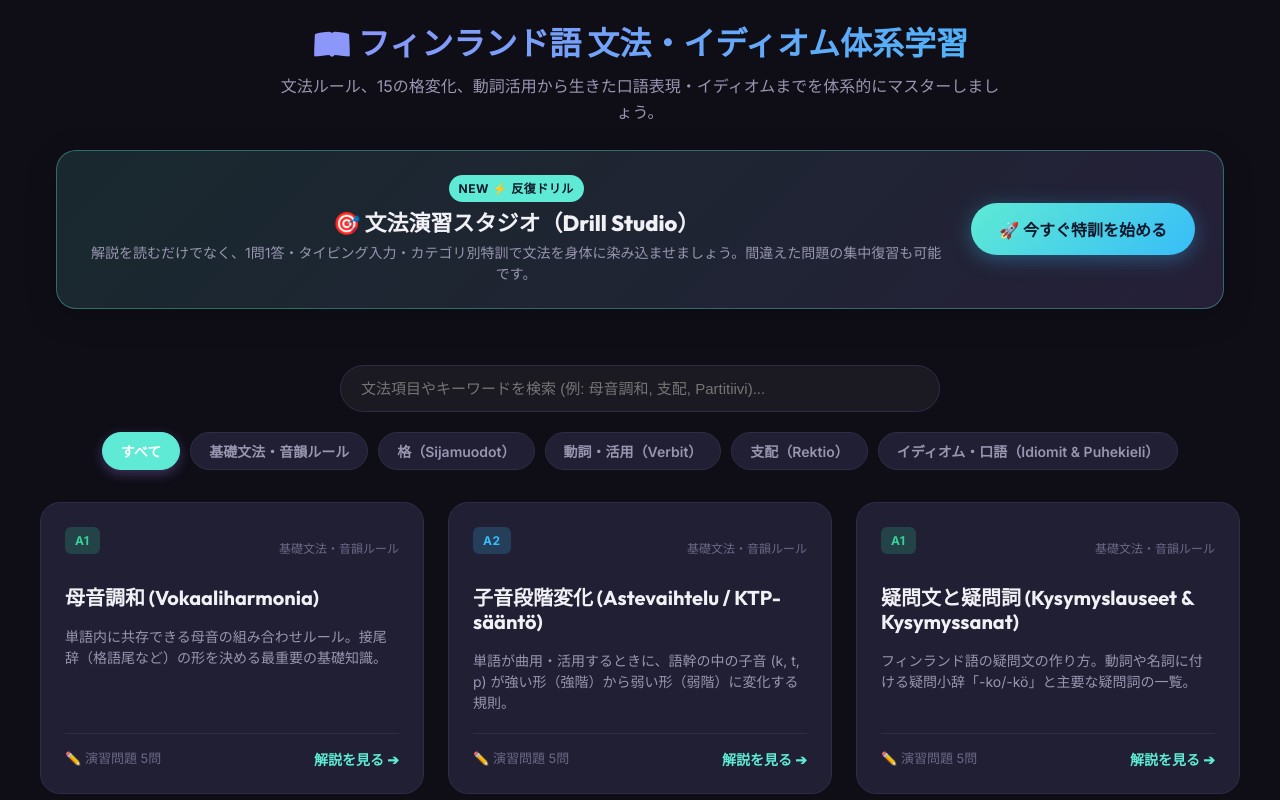
Test: GrammarHub Component › filters topics by category tab
The image size is (1280, 800).
Click the button "イディオム・口語（Idiomit & Puhekieli）" at (1028, 451), box top-left (878, 432), bottom-right (1178, 470)
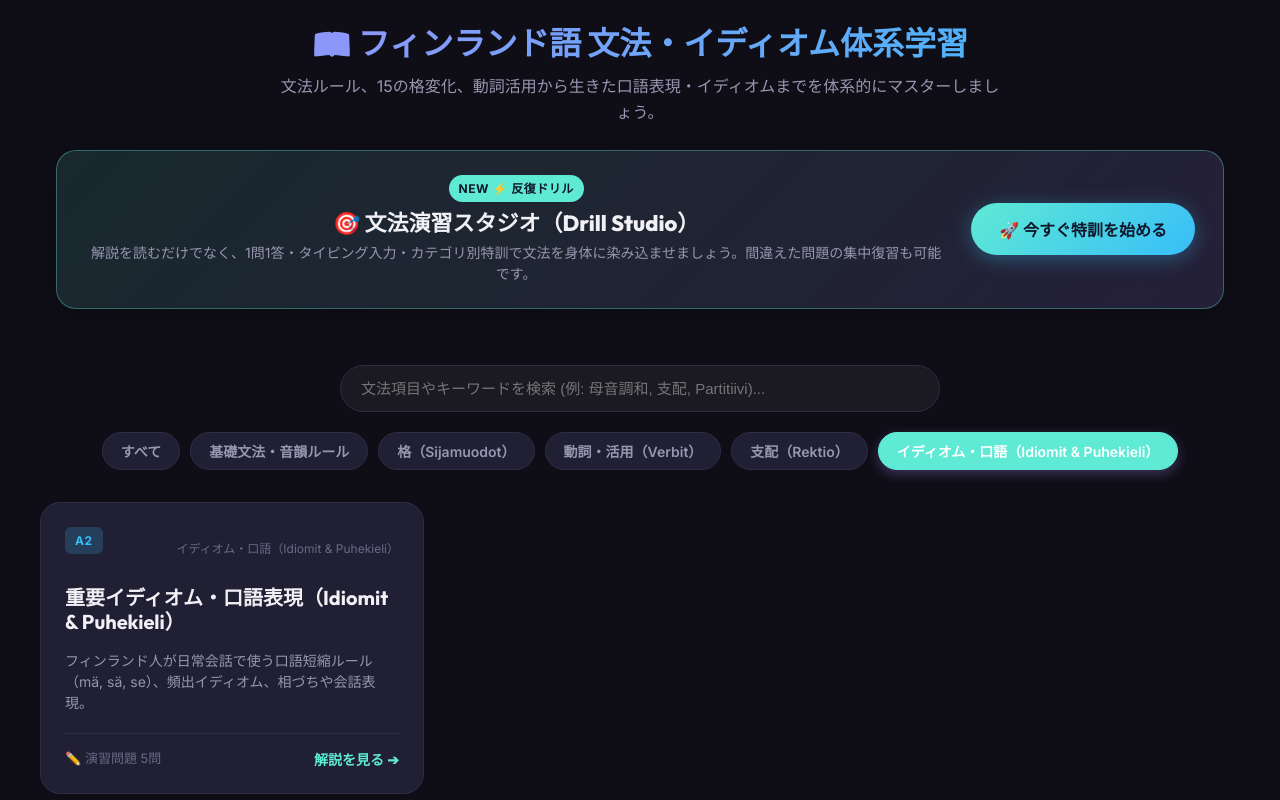
Check: the heading "重要イディオム・口語表現（Idiomit & Puhekieli）" is shown, box top-left (65, 586), bottom-right (399, 634)
Check: the heading "母音調和 (Vokaaliharmonia)" is gone
